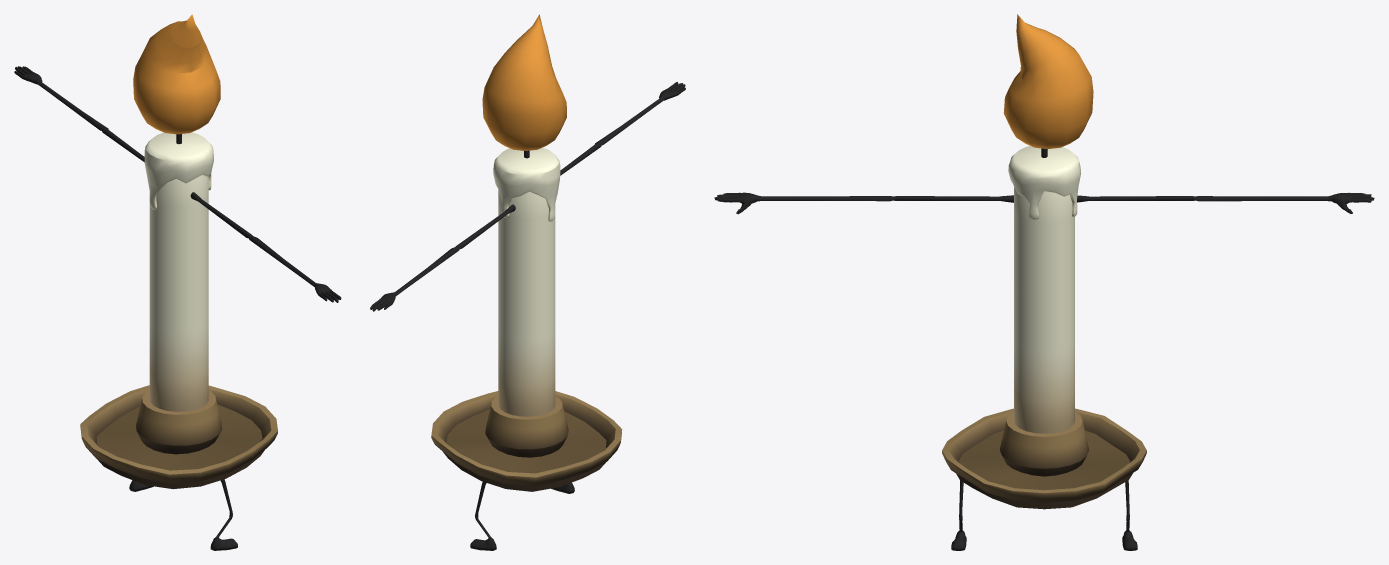
File: CoolCandle.fbx
3 views of the same model, side by side, from view 1: azimuth 30°, elevation 25°; view 2: azimuth 150°, elevation 25°; view 3: azimuth 270°, elevation 25° (orthographic). The views are drawn at different scales.
Visible parts, largest first — view 1: _100Avatars_165_CoolCandle; view 2: _100Avatars_165_CoolCandle; view 3: _100Avatars_165_CoolCandle.
Boxes of the visible parts, x1,y1,x2,y2 form: _100Avatars_165_CoolCandle: (14, 14, 341, 550); _100Avatars_165_CoolCandle: (370, 14, 685, 550); _100Avatars_165_CoolCandle: (714, 14, 1374, 550).
Bounding box in the file's own units: 2.1 × 5.99 × 6.77.
1 material, 1 textured.
